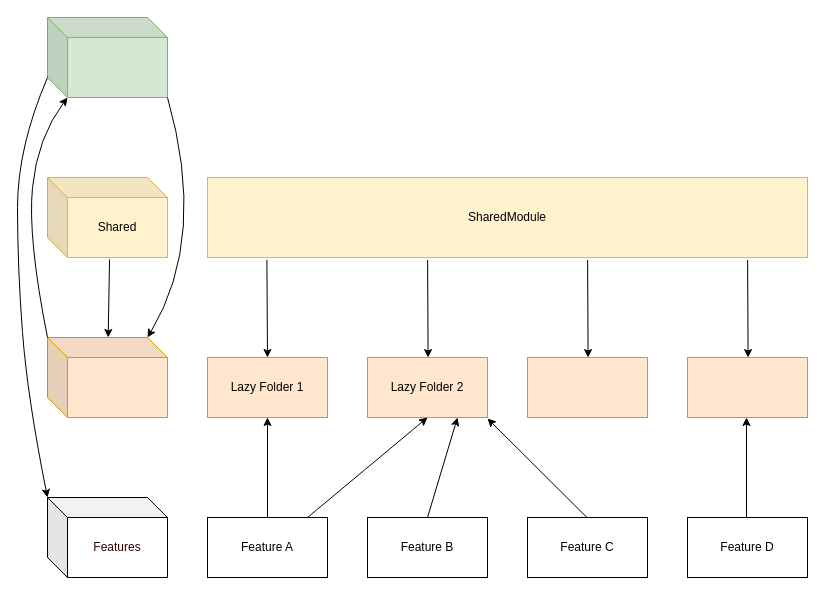
Image size: 825x595. Some labels were removed from this diagram. The centre of each missing label's shape, as x and y in pixels:
Core: [107,57]
Lazy: [107,377]
Lazy Folder 3: [587,387]
Lazy Folder 4: [747,387]
